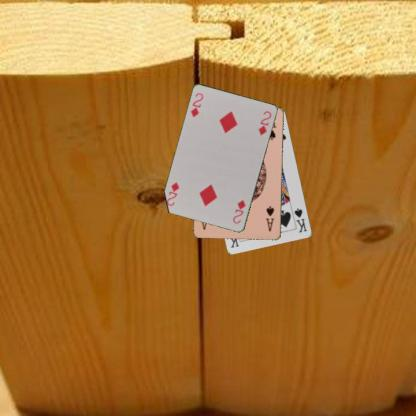2d: (230, 197, 247, 225), (188, 91, 204, 118)
As: (264, 204, 275, 233)
Ks: (292, 206, 308, 234)
